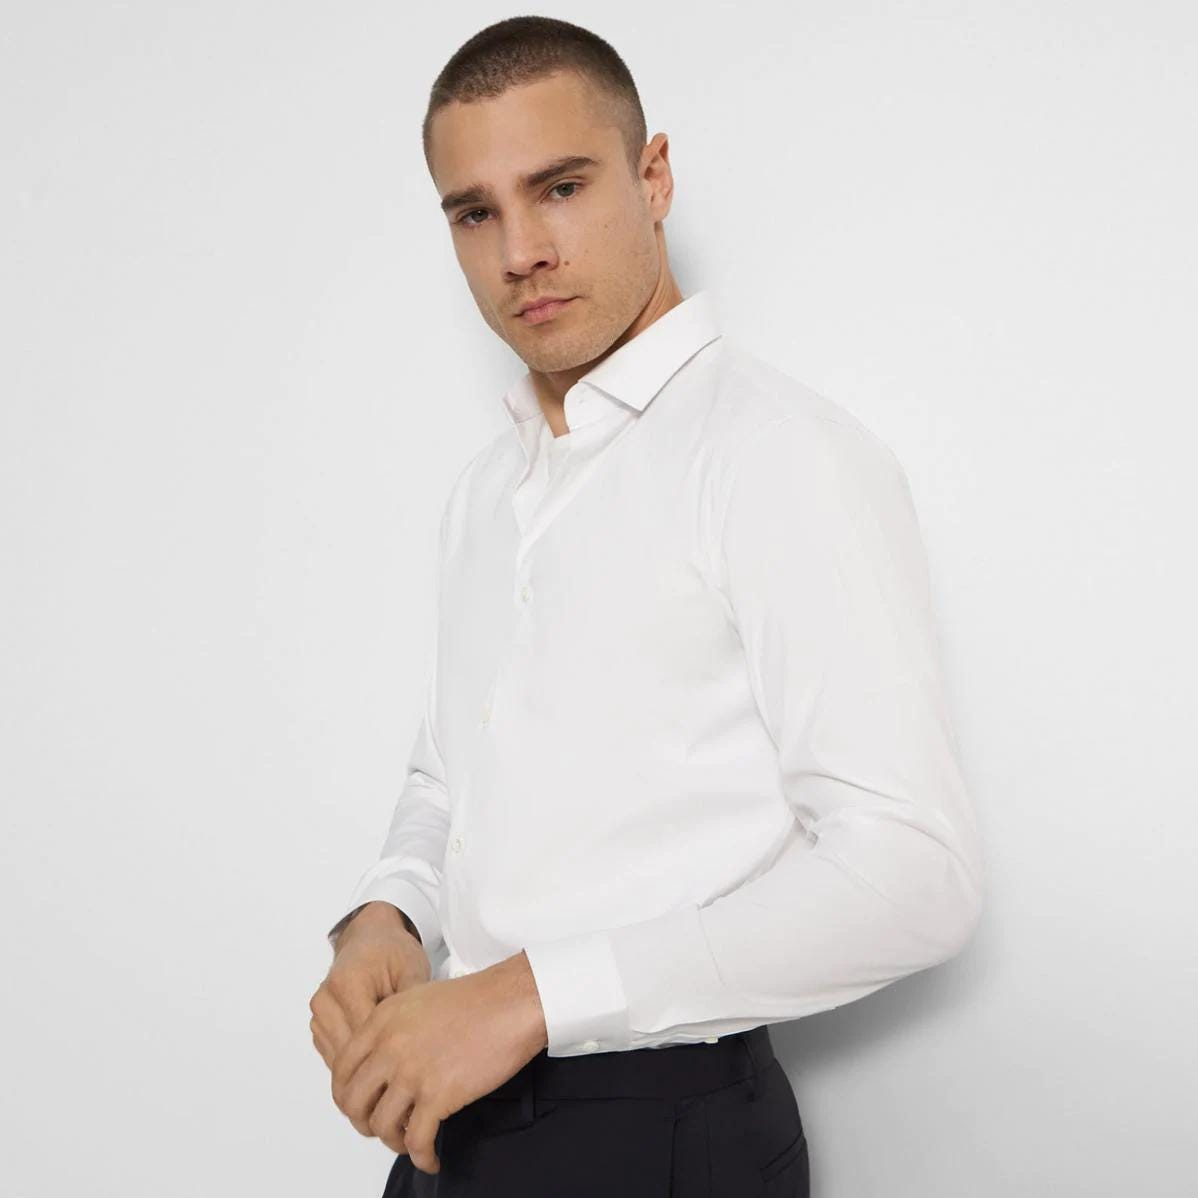long-sleeved shirt: (376, 299, 984, 1066)
